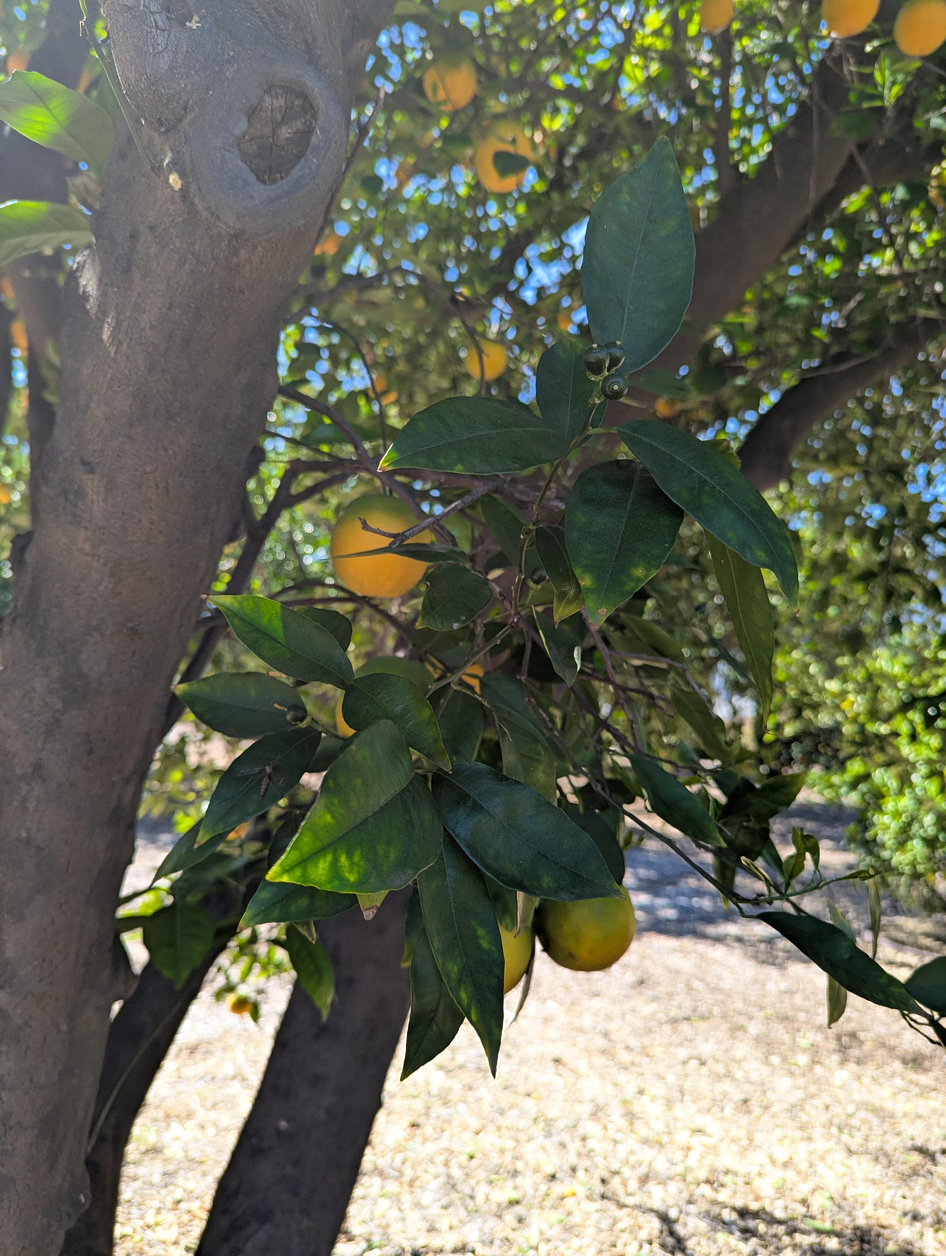orange: (331, 495, 429, 598), (536, 886, 635, 971), (474, 120, 532, 192), (423, 54, 477, 112), (894, 0, 946, 57), (497, 921, 534, 993), (822, 0, 879, 38), (465, 340, 507, 381), (699, 0, 733, 34), (314, 229, 346, 256), (335, 695, 355, 737), (557, 310, 572, 329)
